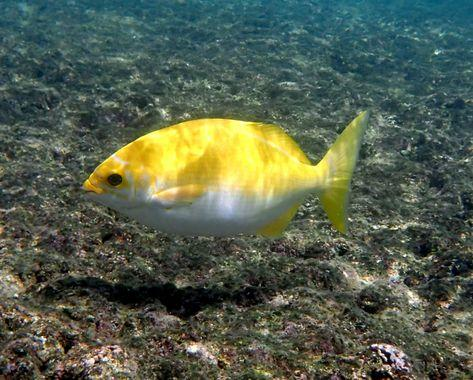fish: (86, 111, 369, 236)
